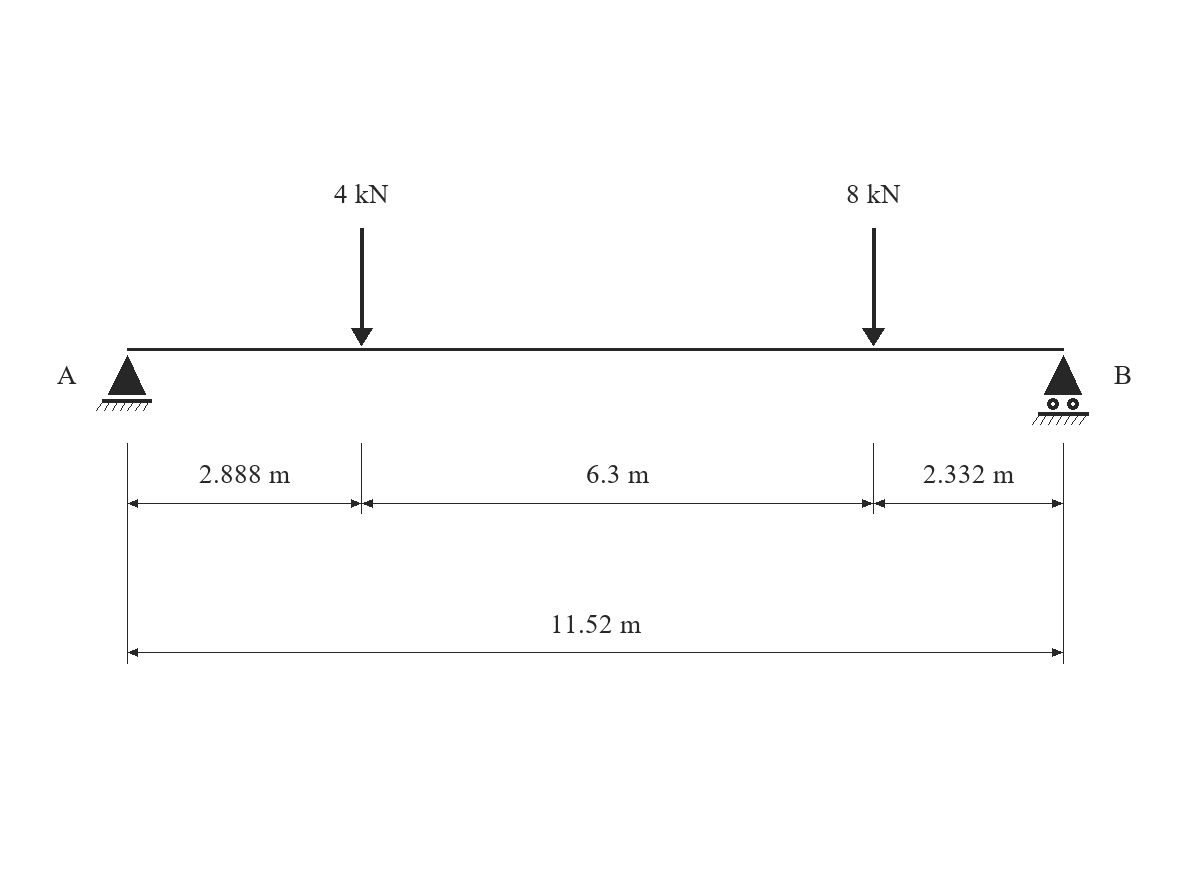pin_support: (96, 355, 152, 411)
point_load: (862, 228, 885, 346), (351, 228, 373, 346)
roller_support: (1032, 355, 1089, 425)
